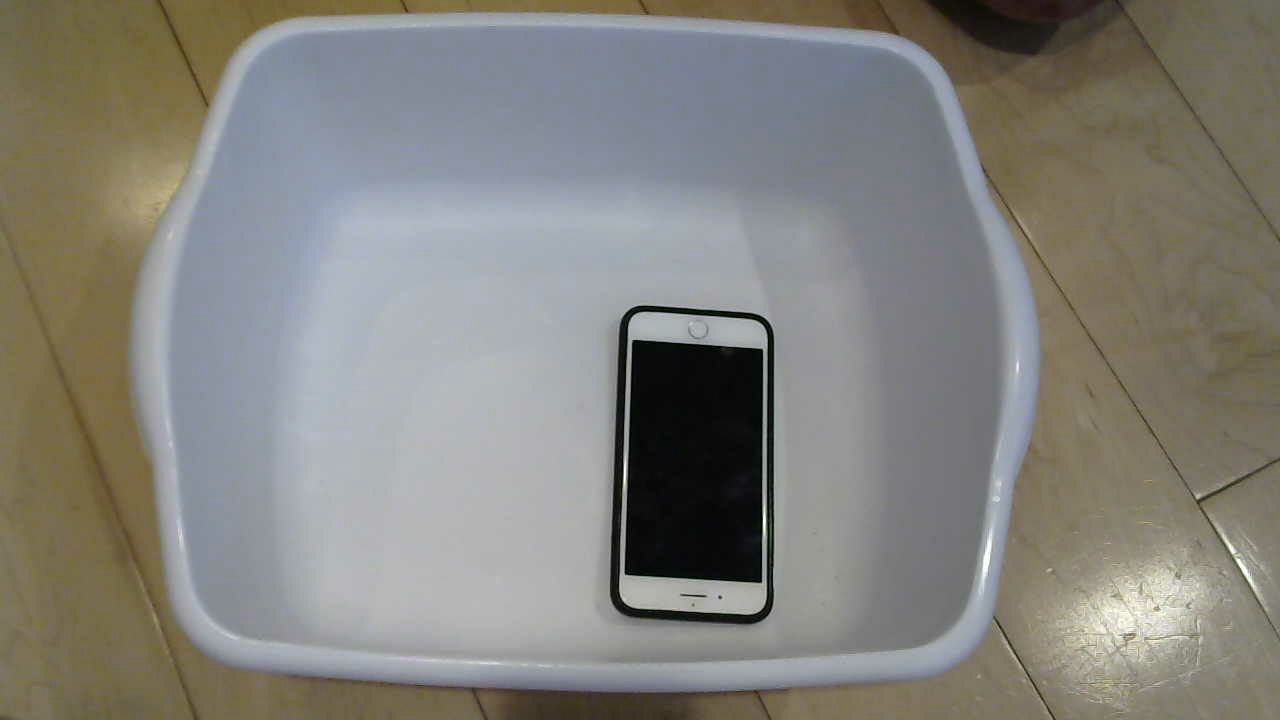phone: (590, 306, 797, 639)
